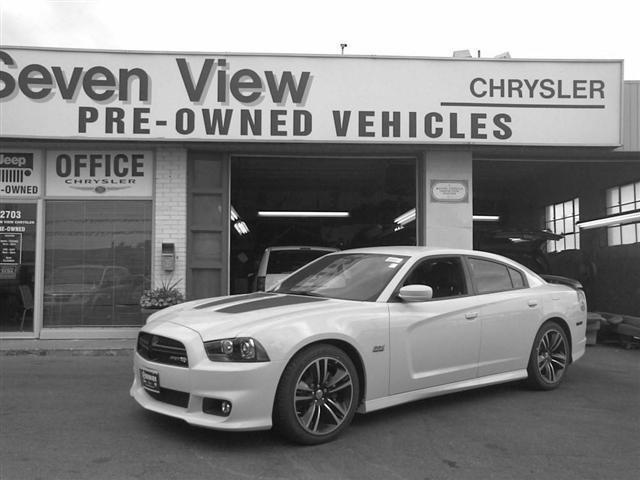car: (132, 243, 590, 444)
